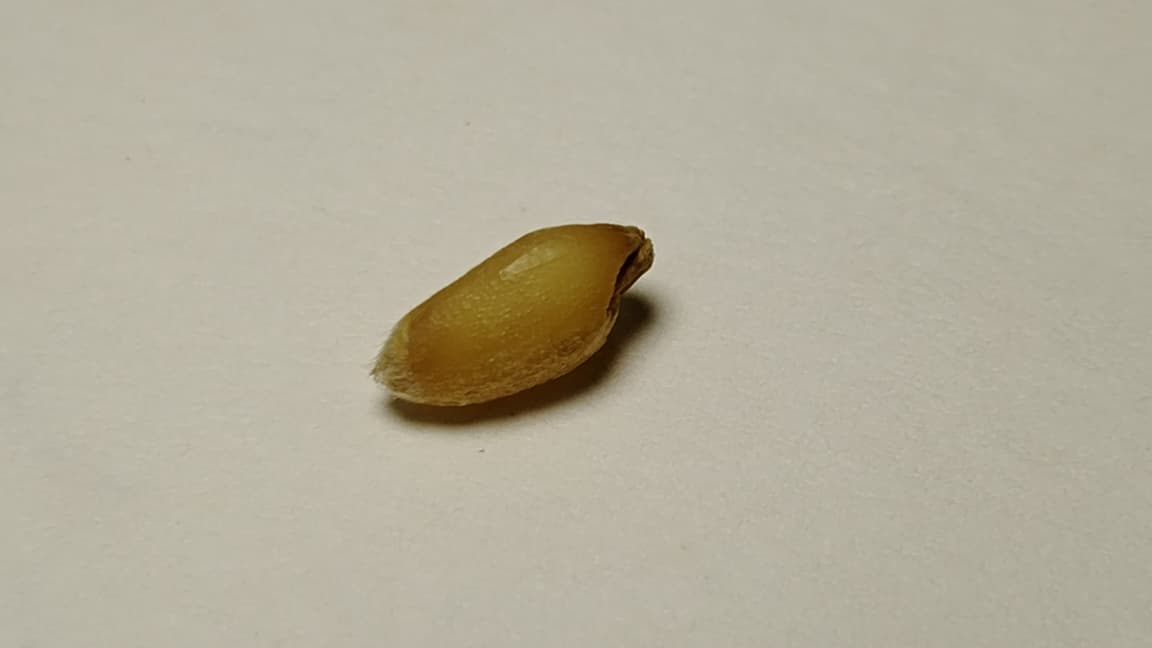crack: (602, 228, 653, 316)
healthy: (372, 223, 652, 407)
